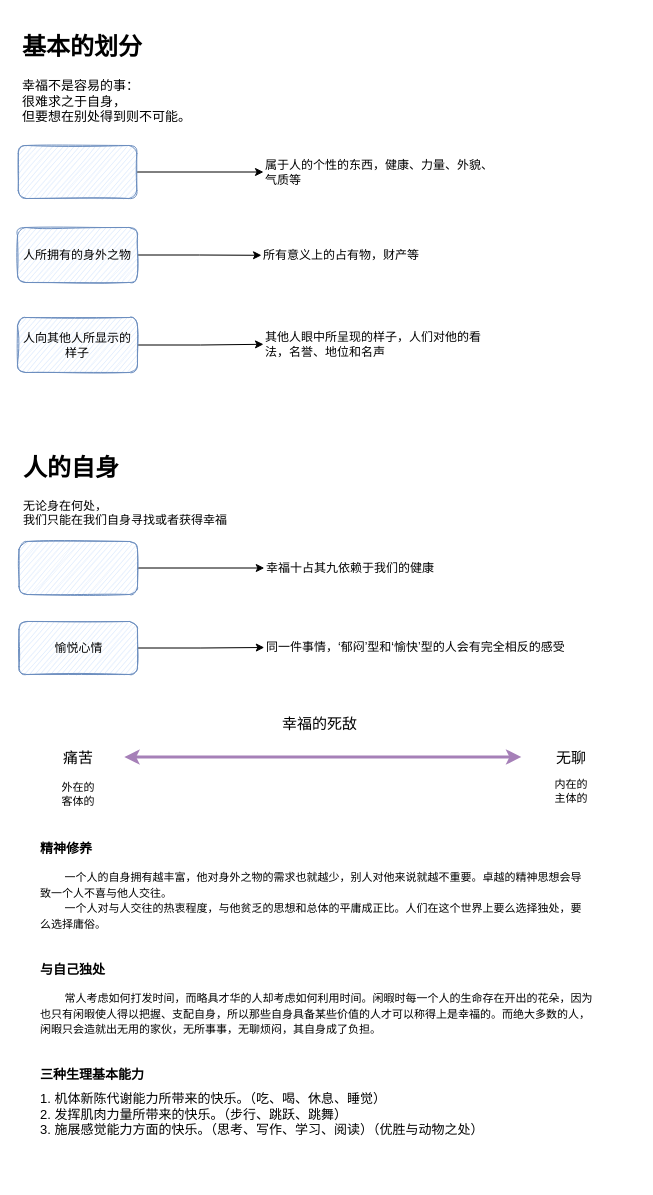
This 653x1195 diagram has some shape labels left out. The box of each missing label's shape, as (x1, y1, x2, y2) in pixels:
人的自身: (17, 144, 137, 198)
健康: (18, 540, 138, 594)
